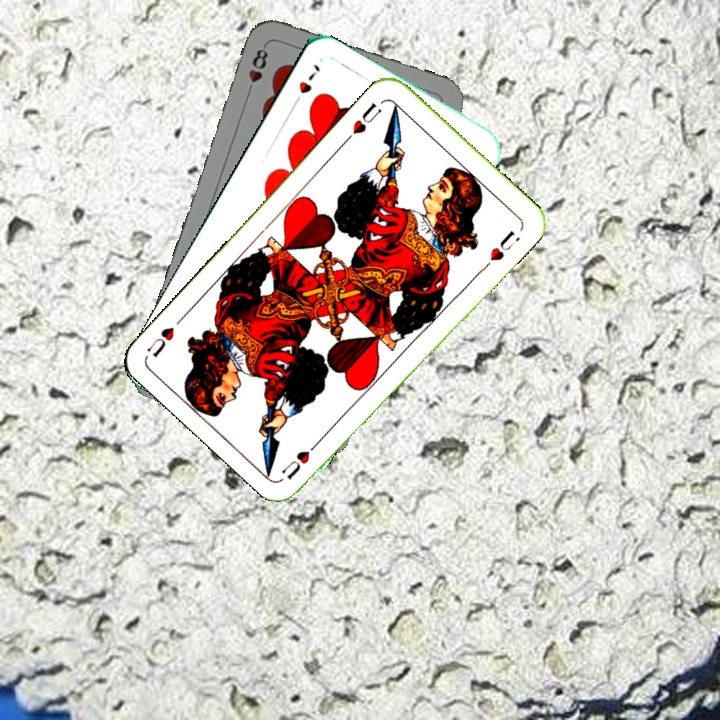H7: (288, 60, 323, 112)
H8: (243, 41, 271, 98)
HU: (277, 434, 325, 482), (341, 98, 385, 144)
